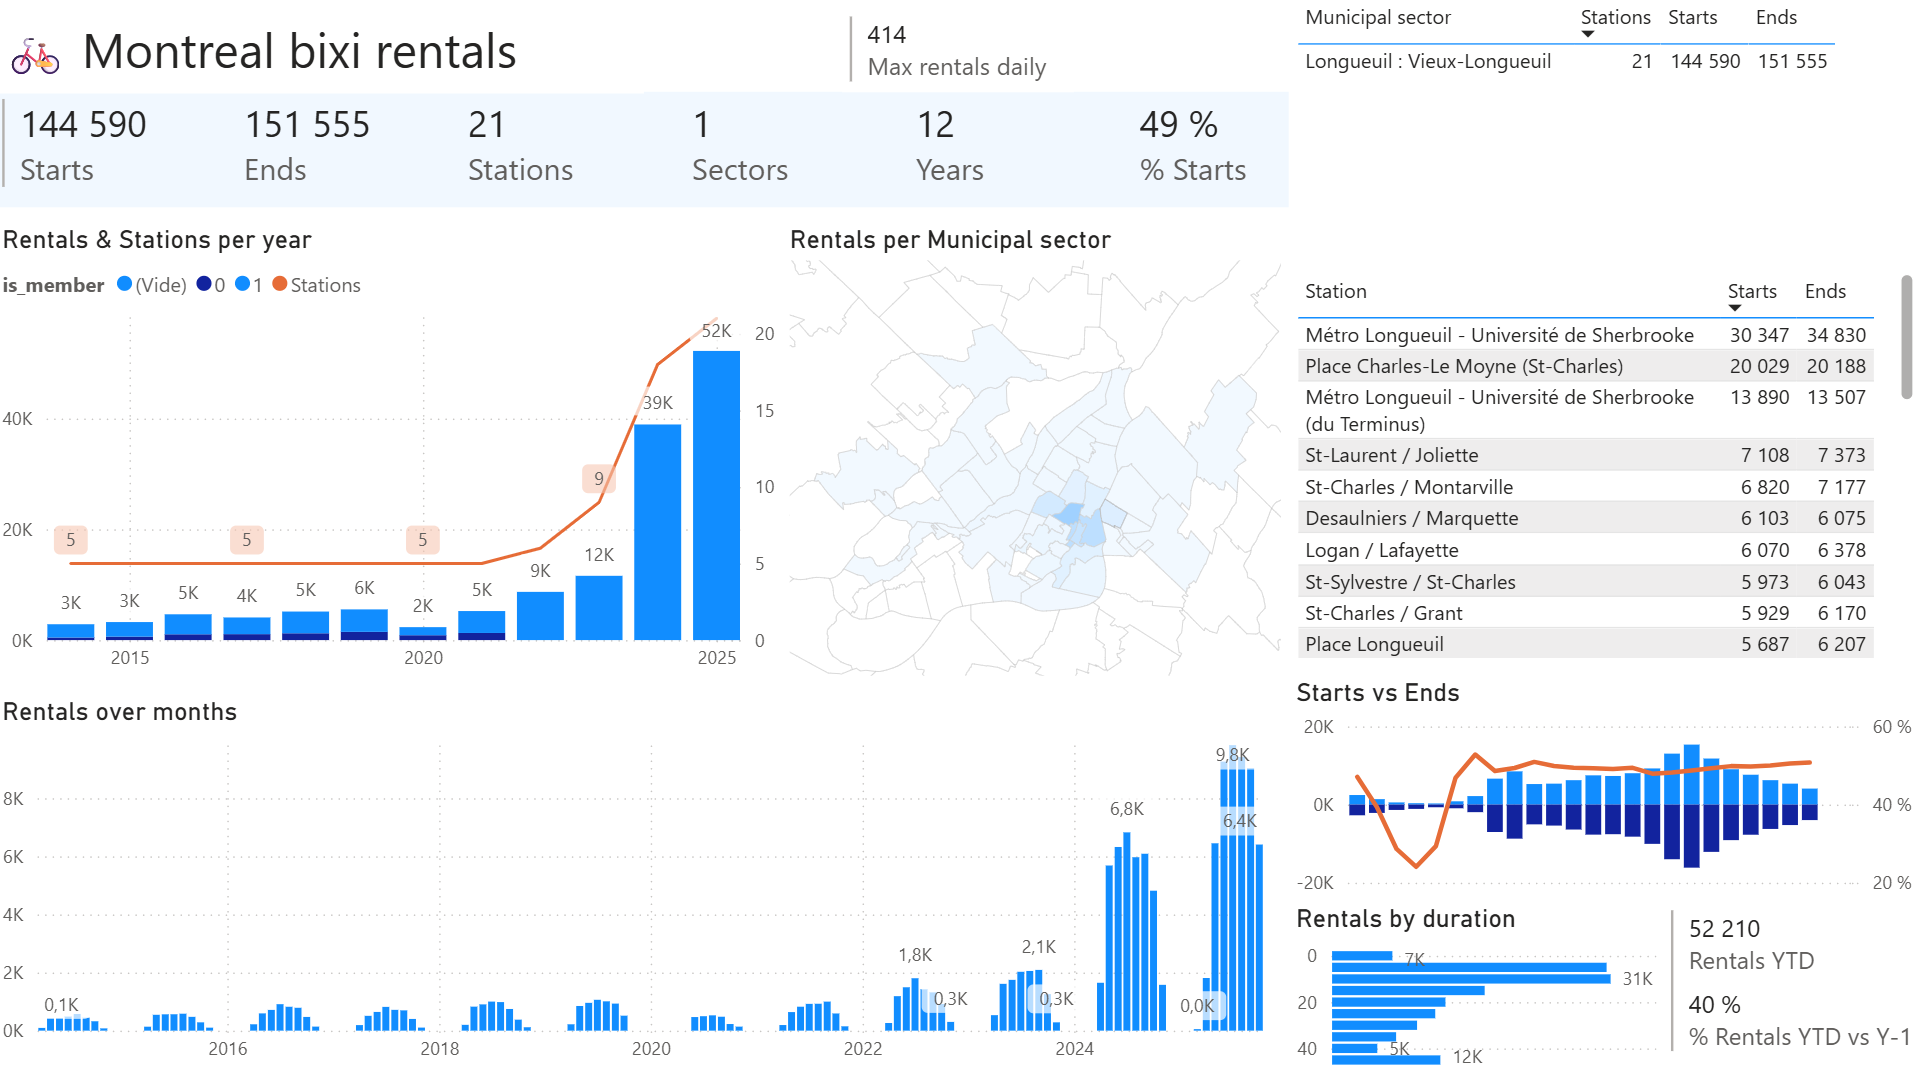

The page's visual inventory and layout, read from the dashboard file:
{"tool":"powerbi","page":{"name":"Montréal Bixi Rentals","canvas":[1280,720],"ordinal":0},"visuals":[{"type":"multiRowCard","fields":{"Values":["stations_yearly.Starts","stations_yearly.Ends","stations_yearly.Stations","stations_yearly.Sectors","Count(stations_yearly.year)","stations_yearly.Starts / Ends"]},"box":[0,65.9,914.7,76.9],"z":0},{"type":"textbox","box":[0,5,431.1,59.8],"z":1000},{"type":"tableEx","fields":{"Values":["secteurs_municipaux_od_2013.sector_name","stations_yearly.Stations","stations_yearly.Starts","stations_yearly.Ends"]},"box":[859.7,0,420.3,181.7],"z":2000},{"type":"tableEx","fields":{"Values":["stations_yearly.name1","stations_yearly.Starts","stations_yearly.Ends"]},"box":[859.7,181.7,420.3,264.8],"z":3000},{"type":"lineStackedColumnComboChart","title":"Rentals & Stations per year","fields":{"Category":["dim_date.dt_annee"],"Series":["raw_bixi_rentals_2014_2020.is_member"],"Y":["raw_bixi_rentals_2014_2020.Rentals"],"Y2":["raw_bixi_rentals_2014_2020.Stations"]},"box":[0,153.8,523.3,306.3],"z":4000},{"type":"shapeMap","title":"Rentals per Municipal sector","fields":{"Category":["secteurs_municipaux_od_2013.sector_name"],"Value":["stations_yearly.Starts + Ends"]},"box":[523.3,153.8,336.5,304.9],"z":5000},{"type":"lineClusteredColumnComboChart","title":"Rentals over months","fields":{"Category":["dim_date.dt_mois"],"Y":["raw_bixi_rentals_2014_2020.Rentals"]},"box":[0,466.6,859.7,252.9],"z":6000},{"type":"lineStackedColumnComboChart","title":"Starts vs Ends","fields":{"Category":["raw_bixi_rentals_2014_2020.Start hour"],"Y":["stations_yearly.Starts","stations_yearly.-Ends"],"Y2":["stations_yearly.% Starts"]},"box":[859.7,454.6,420.3,151.1],"z":7000},{"type":"clusteredBarChart","title":"Rentals by duration","fields":{"Category":["raw_bixi_rentals_2014_2020.duration_5min_group"],"Y":["stations_yearly.Starts"]},"box":[859.5,604.8,249.6,115.6],"z":8000},{"type":"multiRowCard","fields":{"Values":["raw_bixi_rentals_2014_2020.Rentals YTD","raw_bixi_rentals_2014_2020.% Rentals YTD vs Y-1"]},"box":[1109.1,604.8,170.9,115.6],"z":9000},{"type":"multiRowCard","fields":{"Values":["raw_bixi_rentals_2014_2020.Max rentals daily"]},"box":[563.1,11,153.8,54.9],"z":10000},{"type":"image","box":[375.5,1.7,154.5,65.6],"z":10001}]}

Visuals, with their boxes in screenshot pixels (x1, y1, x2, y2), scaled from the page's 1280x720 canvas onto the 1916x1072 screenshot:
multiRowCard - stations_yearly.Starts x stations_yearly.Ends: box(0, 98, 1369, 213)
textbox: box(0, 7, 645, 96)
tableEx - secteurs_municipaux_od_2013.sector_name x stations_yearly.Stations: box(1287, 0, 1915, 271)
tableEx - stations_yearly.name1 x stations_yearly.Starts: box(1287, 271, 1915, 665)
"Rentals & Stations per year" lineStackedColumnComboChart: box(0, 229, 783, 685)
"Rentals per Municipal sector" shapeMap: box(783, 229, 1287, 683)
"Rentals over months" lineClusteredColumnComboChart: box(0, 695, 1287, 1071)
"Starts vs Ends" lineStackedColumnComboChart: box(1287, 677, 1915, 902)
"Rentals by duration" clusteredBarChart: box(1287, 900, 1660, 1071)
multiRowCard - raw_bixi_rentals_2014_2020.Rentals YTD x raw_bixi_rentals_2014_2020.% Rentals YTD vs Y-1: box(1660, 900, 1915, 1071)
multiRowCard - raw_bixi_rentals_2014_2020.Max rentals daily: box(843, 16, 1073, 98)
image: box(562, 3, 793, 100)
